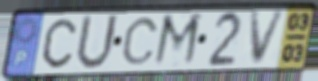2: (205, 9, 243, 69)
C: (119, 16, 160, 67), (41, 16, 79, 70)
M: (150, 11, 205, 69)
U: (73, 12, 121, 73)
V: (248, 8, 289, 68)
